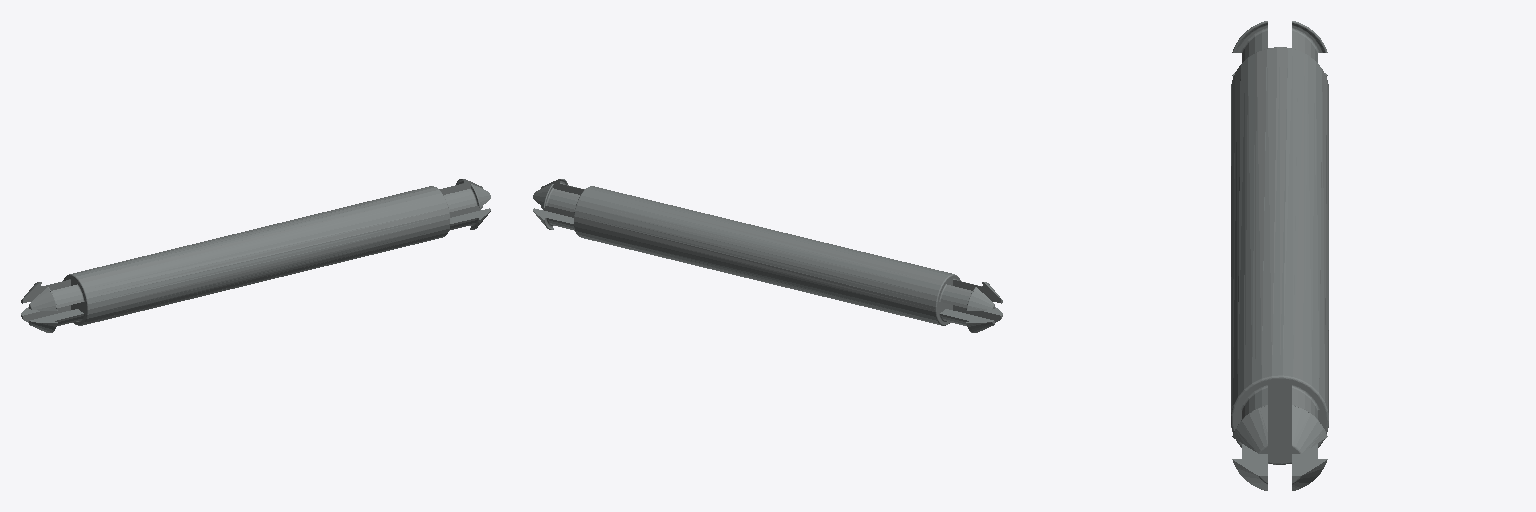
robot.urdf — vertical_01:
<?xml version="1.0" encoding="utf-8"?>
<!-- This URDF was automatically created by SolidWorks to URDF Exporter! Originally created by [author] ([email redacted]) 
     Commit Version: 1.5.1-0-g916b5db  Build Version: 1.5.7152.31018
     For more information, please see http://wiki.ros.org/sw_urdf_exporter -->
<robot
  name="vertical_01">
  <link
    name="verticla_01">
    <inertial>
      <origin
        xyz="0.25 0.01 8.6007E-20"
        rpy="0 0 0" />
      <mass
        value="0.40888" />
      <inertia
        ixx="2.0335E-05"
        ixy="4.7229E-14"
        ixz="1.8208E-13"
        iyy="0.00098718"
        iyz="3.2208E-13"
        izz="0.00098718" />
    </inertial>
    <visual>
      <origin
        xyz="0 0 0"
        rpy="0 0 0" />
      <!-- xyz="0.1 0 0"
      rpy="1.5707963267949 0 0" /> -->
    <geometry>
        <mesh
          filename="package://my_ur10_description/meshes/object/vertical_01.STL" />
      </geometry>
      <material
        name="plain_carbon_steel">
        <color
          rgba="0.52941 0.54902 0.54902 1" />
        <!-- <texture filename="package://verticla/textures/" 0.40888/> -->
      </material>
    </visual>
    <collision>
      <origin
        xyz="0 0 0"
        rpy="0 0 0" />
      <geometry>
        <mesh
          filename="package://my_ur10_description/meshes/object/vertical_01.STL" />
      </geometry>
    </collision>
  </link>
  <gazebo reference="vertical_01">
    <material>
      <color rgba="0.52941 0.54902 0.54902 1" />
    </material>
    <kp>1000000.0</kp>
    <kd>1.0</kd>
    <mu1>0.8</mu1>
    <mu2>0.7</mu2>
    <maxVel>0</maxVel>
    <minDepth>0.001</minDepth>
    <!-- <selfCollide>true</selfCollide> -->
  </gazebo>
</robot>

--- Render facts (derived) ---
Views: 3 orthographic renders of the robot side by side, from view 1: azimuth 30°, elevation 25°; view 2: azimuth 150°, elevation 25°; view 3: azimuth 270°, elevation 25°.
Model vertical_01 with 1 links and 0 joints (none), rooted at verticla_01, posed all joints at 0.
Visible links, largest first — view 1: verticla_01; view 2: verticla_01; view 3: verticla_01.
Boxes of the visible links, box(x1,y1,x2,y2) form: verticla_01: box(21, 179, 490, 332); verticla_01: box(533, 179, 1002, 332); verticla_01: box(1231, 21, 1328, 490).
Size in the robot's own frame: 0.2 by 0.02 by 0.02 metres.
Meshes: 1 distinct files referenced, 1 mesh visuals loaded (1 binary STL).
